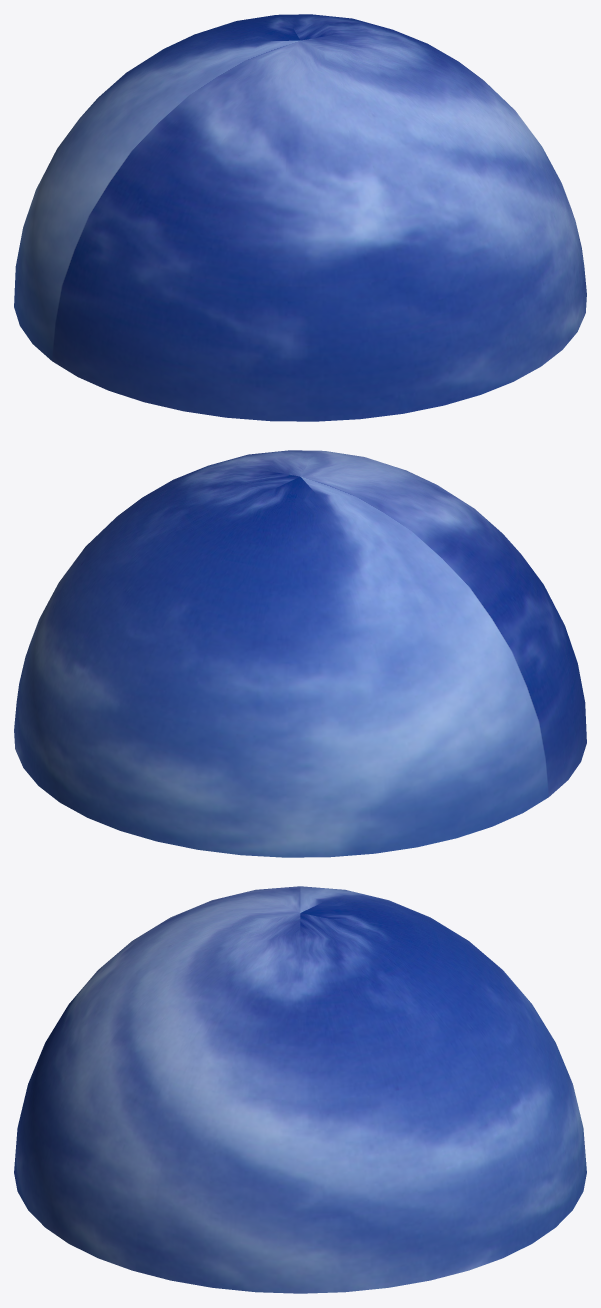
3 renders of one model, top to bottom at view 1: azimuth 30°, elevation 25°; view 2: azimuth 150°, elevation 25°; view 3: azimuth 270°, elevation 25°, orthographic.
Visible parts, largest first — view 1: GeoSphere001; view 2: GeoSphere001; view 3: GeoSphere001.
Boxes of the visible parts, left/top/right/bottom form: GeoSphere001: left=14, top=14, right=586, bottom=421; GeoSphere001: left=14, top=450, right=586, bottom=857; GeoSphere001: left=14, top=886, right=586, bottom=1293.
Size of the model in its own units: 2965 by 2965 by 1491.
